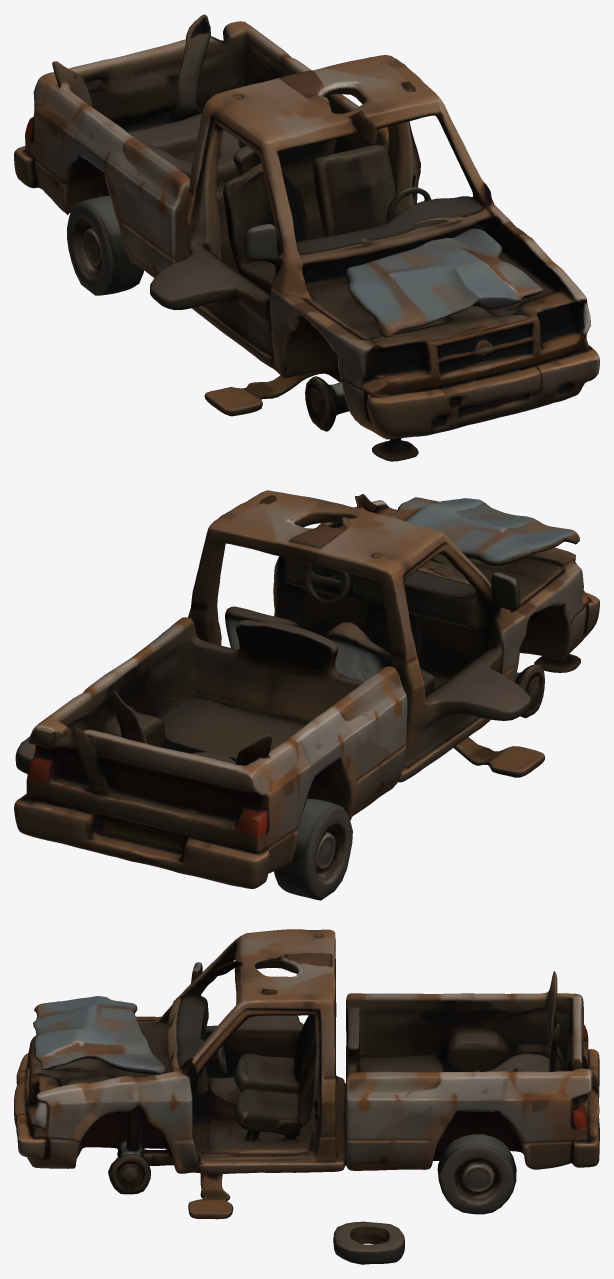
Rendered from SM_Vehicle_DamagedPickup_01.fbx.
The picture shows the model from 3 angles, top to bottom: view 1: azimuth 30°, elevation 25°; view 2: azimuth 150°, elevation 25°; view 3: azimuth 270°, elevation 25°; orthographic projection. The views are drawn at different scales.
Visible parts, largest first — view 1: SM_Vehicle_DamagedPickup_01; view 2: SM_Vehicle_DamagedPickup_01; view 3: SM_Vehicle_DamagedPickup_01.
Boxes of the visible parts, box(x1,y1,x2,y2) form: SM_Vehicle_DamagedPickup_01: box(14, 14, 599, 461); SM_Vehicle_DamagedPickup_01: box(14, 490, 599, 900); SM_Vehicle_DamagedPickup_01: box(14, 929, 599, 1264).
Bounding box in the file's own units: 0.6876 × 0.3964 × 0.9997.
Materials: 1 (1 with a texture image).
